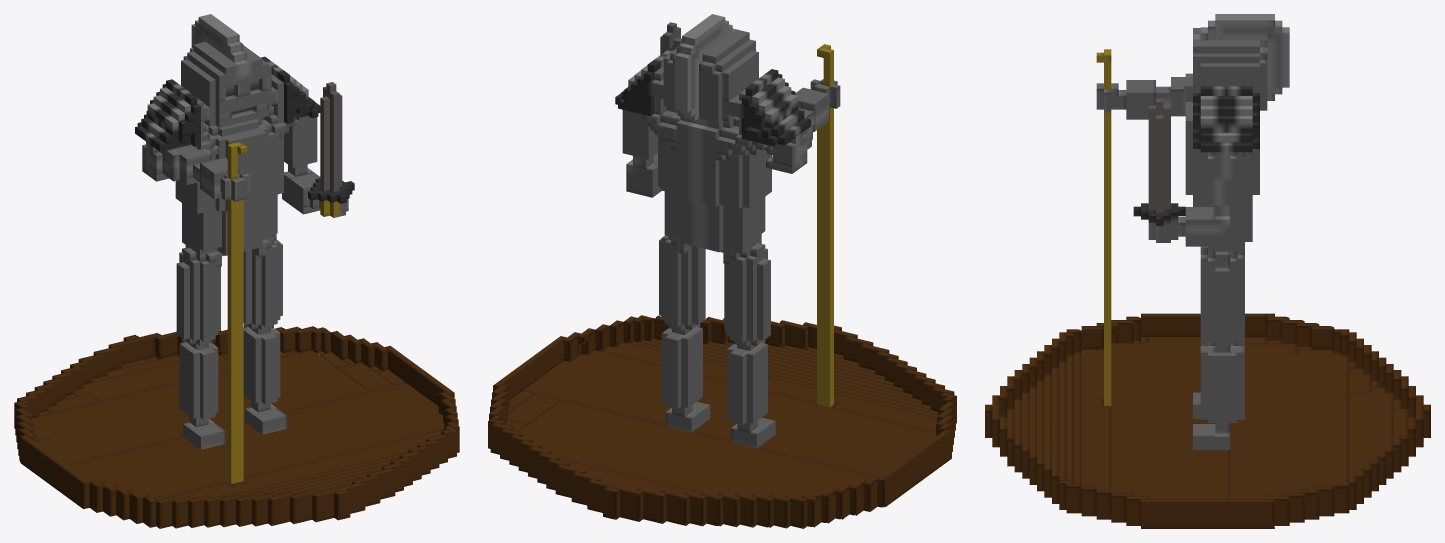
The model's file is the Guardia warriors.obj.
3 renders of one model, left to right at view 1: azimuth 30°, elevation 25°; view 2: azimuth 150°, elevation 25°; view 3: azimuth 270°, elevation 25°, orthographic. The views are drawn at different scales.
Parts seen in each view (by area): view 1: Model; view 2: Model; view 3: Model.
Boxes of the visible parts, x1,y1,x2,y2 form: Model: [14, 14, 459, 528]; Model: [488, 14, 956, 528]; Model: [985, 14, 1430, 528].
Bounding box in the file's own units: 30.97 × 32 × 30.97.
Materials: 1 (1 with a texture image).
